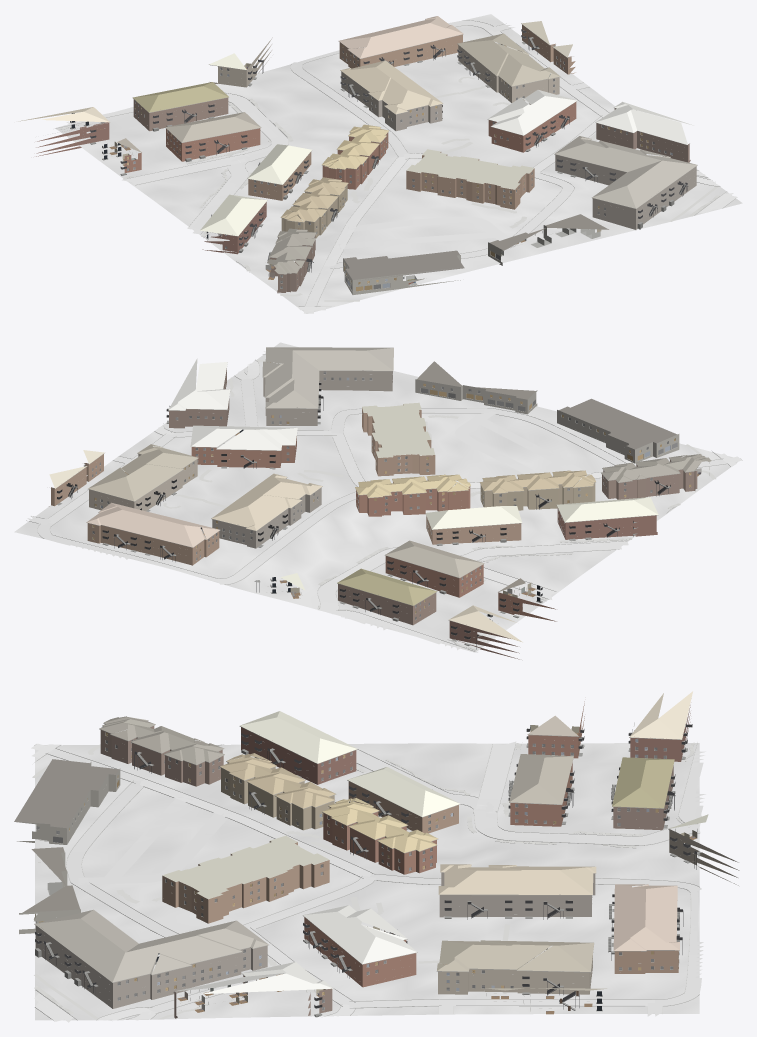
3 views of the same model, one above another, from view 1: azimuth 30°, elevation 25°; view 2: azimuth 150°, elevation 25°; view 3: azimuth 270°, elevation 25° (orthographic). The views are drawn at different scales.
Parts seen in each view (by area): view 1: ground, roof, wall, concrete, detail, roof_flat, curb, walk, rail, wall_com, room, glass (+1 smaller); view 2: ground, roof, wall, concrete, detail, roof_flat, wall_com, curb, walk, rail, glass, glass_lit; view 3: ground, roof, wall, concrete, detail, roof_flat, curb, walk, rail, wall_com, glass, room (+2 smaller).
Boxes of the visible parts, x1,y1,x2,y2 form: ground: (55,14,742,311); roof: (18,16,697,274); wall: (36,25,696,293); concrete: (67,20,719,306); detail: (52,19,697,291); roof_flat: (344,214,608,280); curb: (55,20,735,313); walk: (56,76,719,301); rail: (70,29,687,271); wall_com: (343,225,546,294); room: (100,43,601,291); glass: (82,45,666,290); ground: (14,342,738,652); roof: (49,347,711,642); wall: (49,368,697,659); concrete: (27,360,727,650); detail: (52,370,709,649); roof_flat: (417,361,677,449); wall_com: (415,379,679,463); curb: (26,354,741,652); walk: (163,360,716,650); rail: (57,383,670,639); glass: (84,371,677,619); glass_lit: (92,377,691,613); ground: (35,743,699,1020); roof: (34,691,708,994); wall: (35,701,739,1018); concrete: (48,741,705,1021); detail: (34,720,724,1017); roof_flat: (14,759,118,912); curb: (34,742,699,1020); walk: (32,742,694,1019); rail: (35,724,696,1008); wall_com: (16,762,120,934); glass: (36,740,673,1010); room: (34,725,697,1014).
Size of the model in its own units: 286 by 20.33 by 274.
